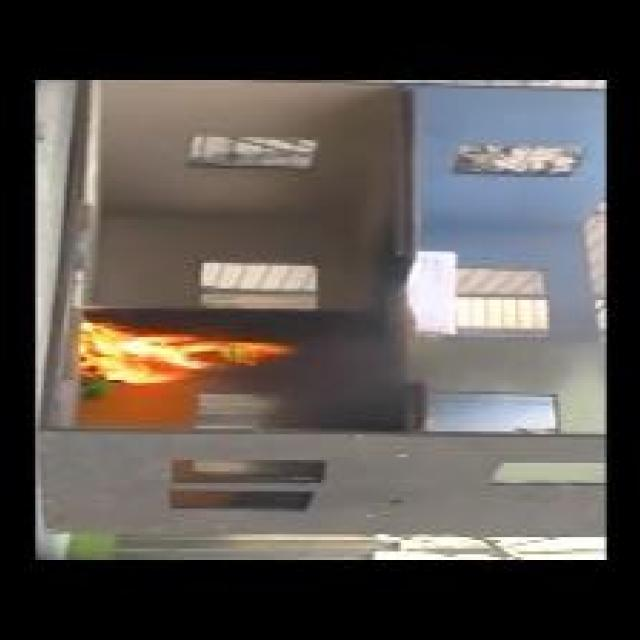Fire: (75, 322, 298, 384)
